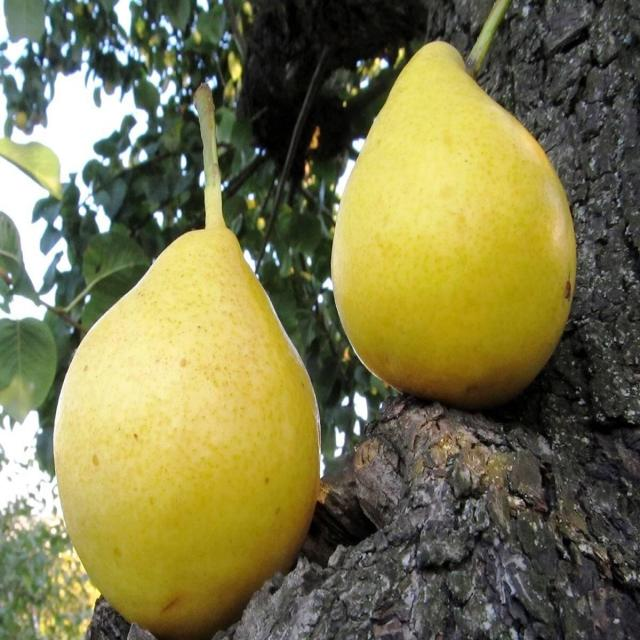pear: (49, 35, 580, 632), (51, 81, 323, 634), (328, 37, 578, 410)
